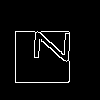Z: (24, 30, 70, 62)
